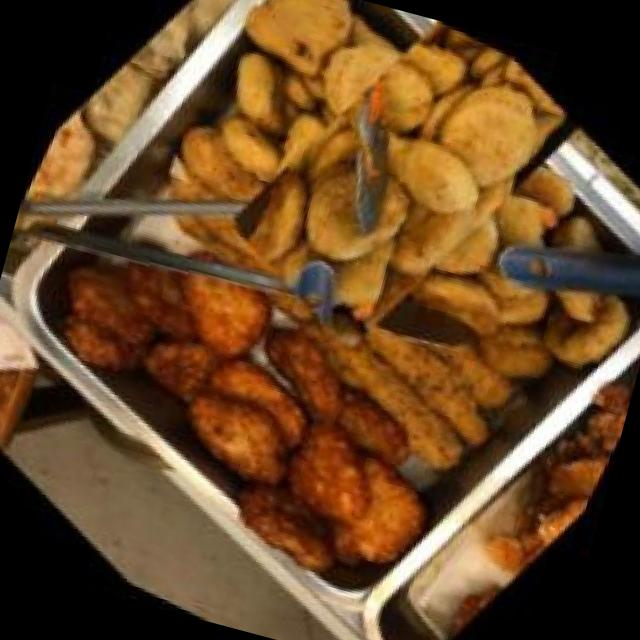chicken_nuggets: (173, 0, 629, 405)
triangle_hash_brown: (0, 169, 514, 632)
